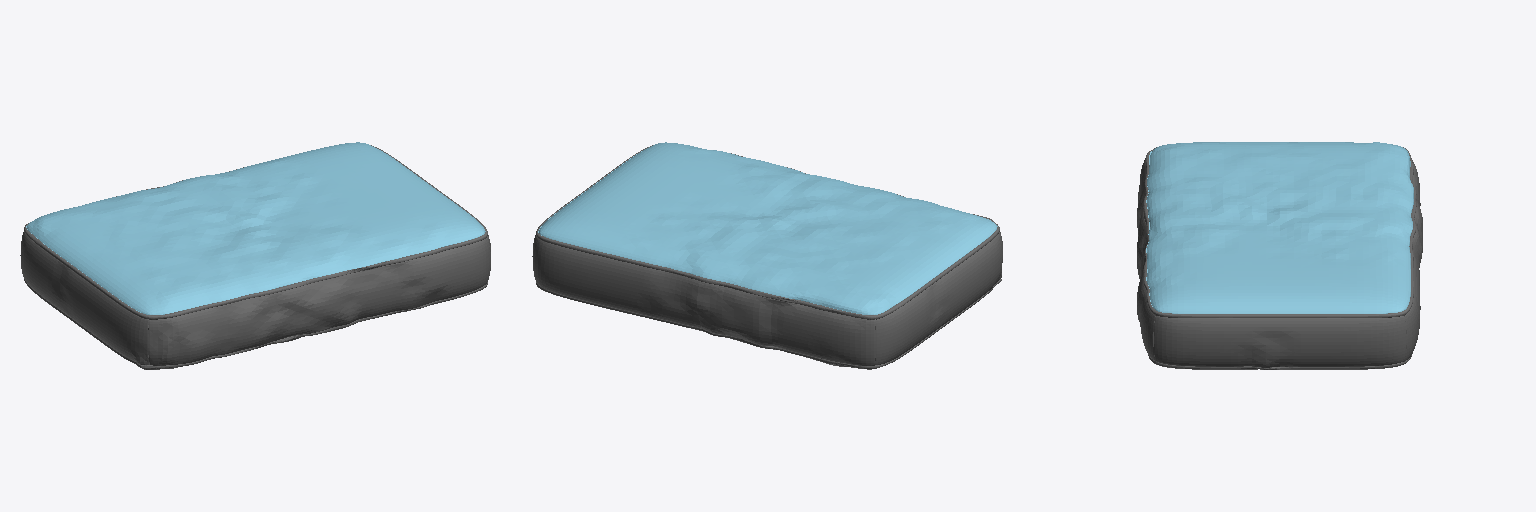
The model's file is mattress.obj.
3 views of the same model, side by side, from view 1: azimuth 30°, elevation 25°; view 2: azimuth 150°, elevation 25°; view 3: azimuth 270°, elevation 25° (orthographic).
Parts seen in each view (by area): view 1: Object001_Mesh.001, Box001_Mesh; view 2: Object001_Mesh.001, Box001_Mesh; view 3: Object001_Mesh.001, Box001_Mesh.
Boxes of the visible parts, box(x1,y1,x2,y2) form: Object001_Mesh.001: box(26, 142, 485, 314); Box001_Mesh: box(20, 145, 490, 369); Object001_Mesh.001: box(538, 142, 997, 314); Box001_Mesh: box(532, 145, 1002, 369); Object001_Mesh.001: box(1146, 142, 1413, 313); Box001_Mesh: box(1137, 147, 1422, 369).
Bounding box in the file's own units: 3.73 × 0.7624 × 2.53.